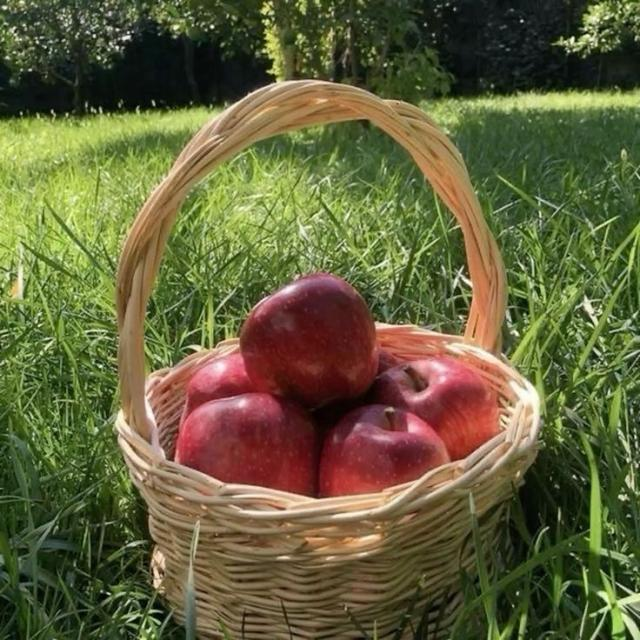apple: (240, 273, 378, 407), (175, 393, 319, 496), (370, 357, 499, 459), (320, 405, 450, 496), (181, 353, 259, 423), (378, 348, 403, 374)
